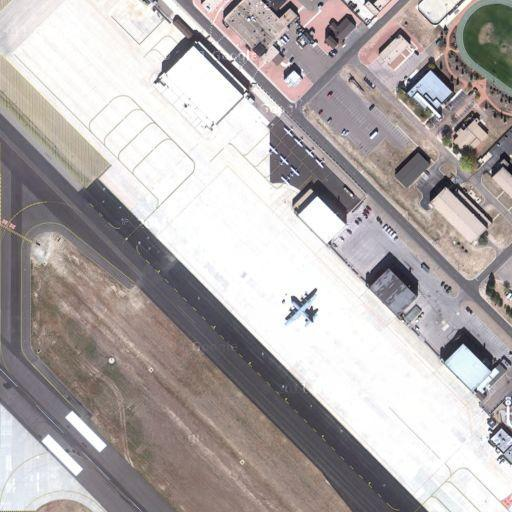C-130: (279, 290, 323, 327)
